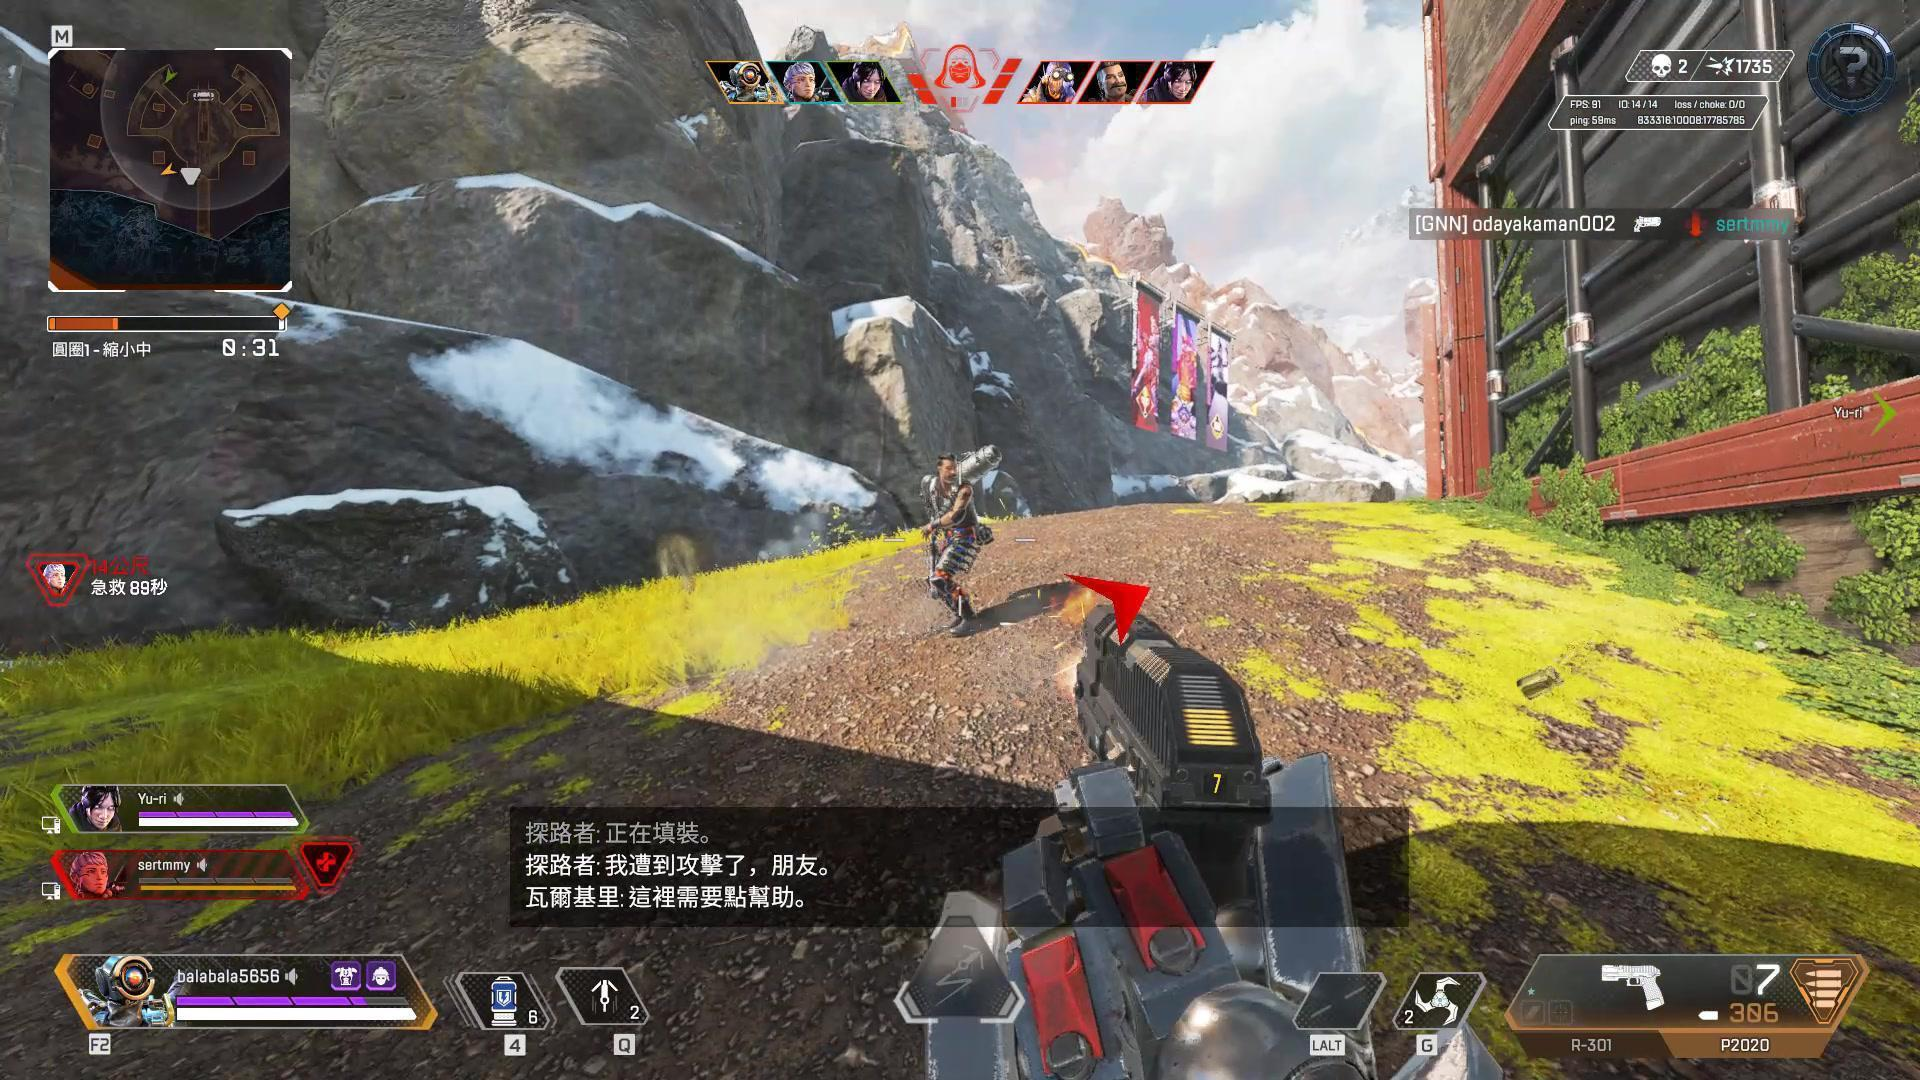avatar: (914, 450, 987, 637)
